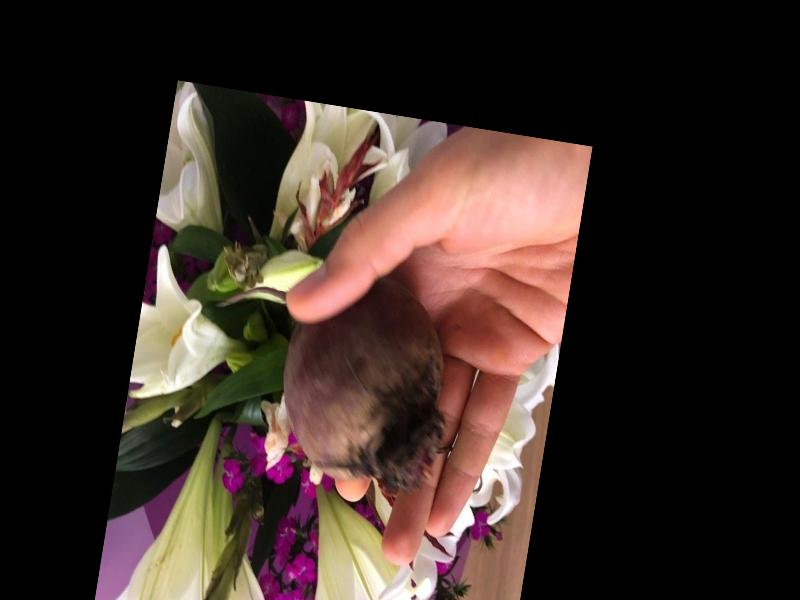Beet: (192, 254, 459, 497)
